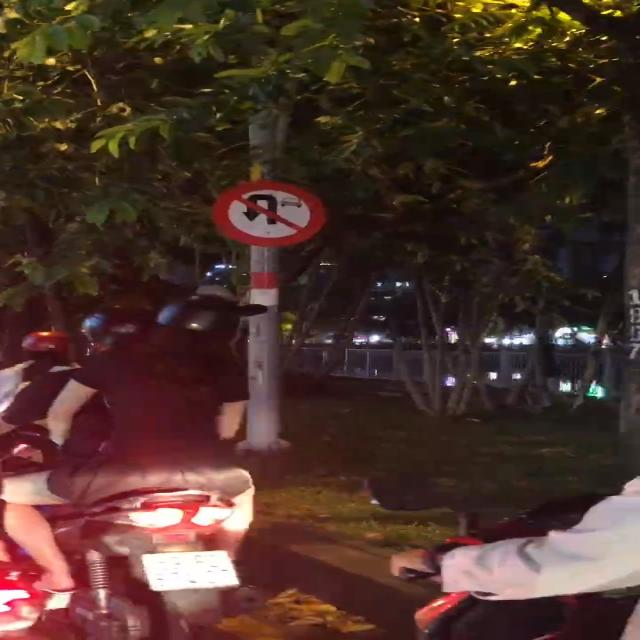Bien bao cam quay dau xe: (209, 178, 326, 248)
